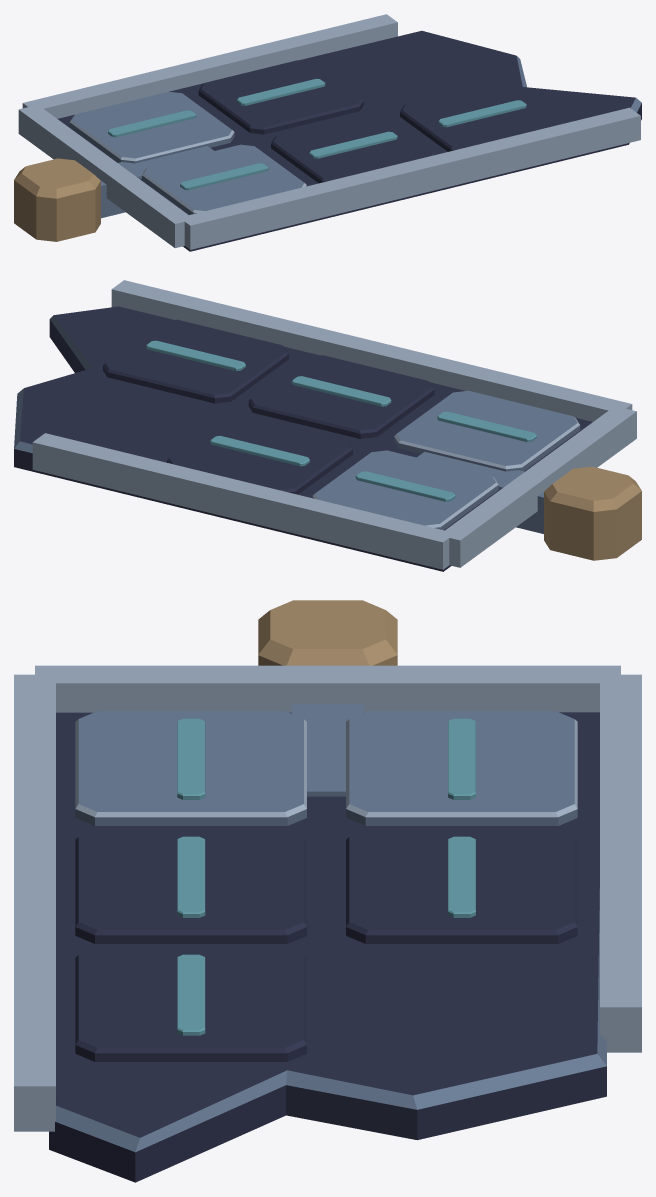
File: station_solar_wing.glb
The picture shows the model from 3 angles, top to bottom: view 1: azimuth 30°, elevation 25°; view 2: azimuth 150°, elevation 25°; view 3: azimuth 270°, elevation 25°; orthographic projection. The views are drawn at different scales.
Parts seen in each view (by area): view 1: station_solar_wing; view 2: station_solar_wing; view 3: station_solar_wing.
Part boxes in pixels (x1=…): station_solar_wing: x1=14, y1=14, x2=641, y2=251; station_solar_wing: x1=14, y1=280, x2=641, y2=571; station_solar_wing: x1=14, y1=600, x2=641, y2=1182.
Size of the model in its own units: 4.38 by 0.37 by 2.25.
